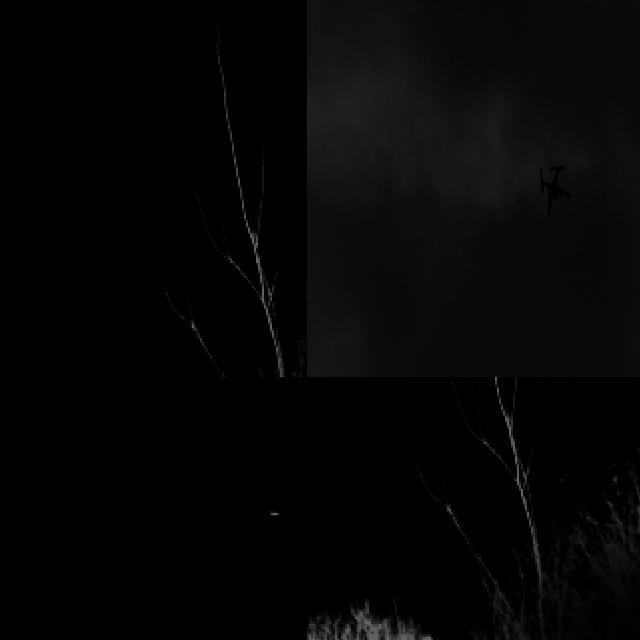0: (164, 134, 186, 160)
1: (258, 502, 290, 532)
drone: (533, 157, 573, 215)
